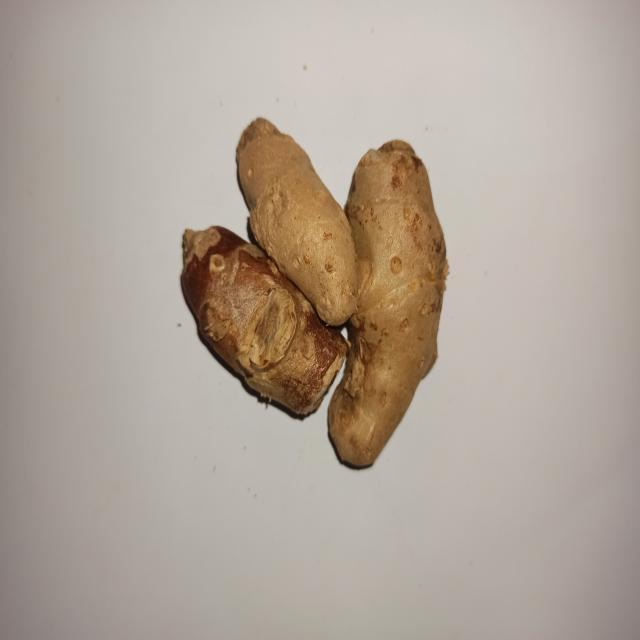ginger: (186, 114, 430, 454)
